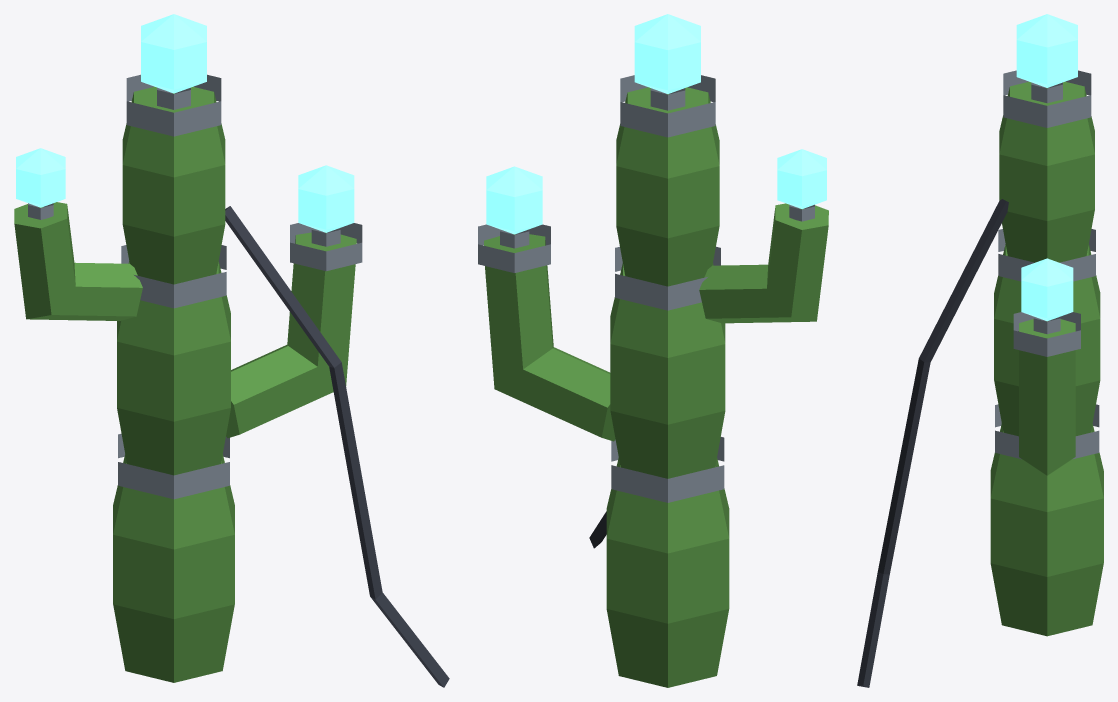
File: Veg_CactusBio_A.fbx
3 renders of one model, left to right at view 1: azimuth 30°, elevation 25°; view 2: azimuth 150°, elevation 25°; view 3: azimuth 270°, elevation 25°, orthographic. The views are drawn at different scales.
Visible parts, largest first — view 1: Veg_CactusBio_A; view 2: Veg_CactusBio_A; view 3: Veg_CactusBio_A.
Boxes of the visible parts, <box> form: Veg_CactusBio_A: <box>14,14,449,687</box>; Veg_CactusBio_A: <box>478,14,828,687</box>; Veg_CactusBio_A: <box>857,14,1103,687</box>.
Bounding box in the file's own units: 1.83 × 3.24 × 1.21.
